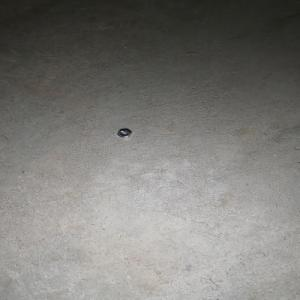Nut: (116, 128, 131, 137)
